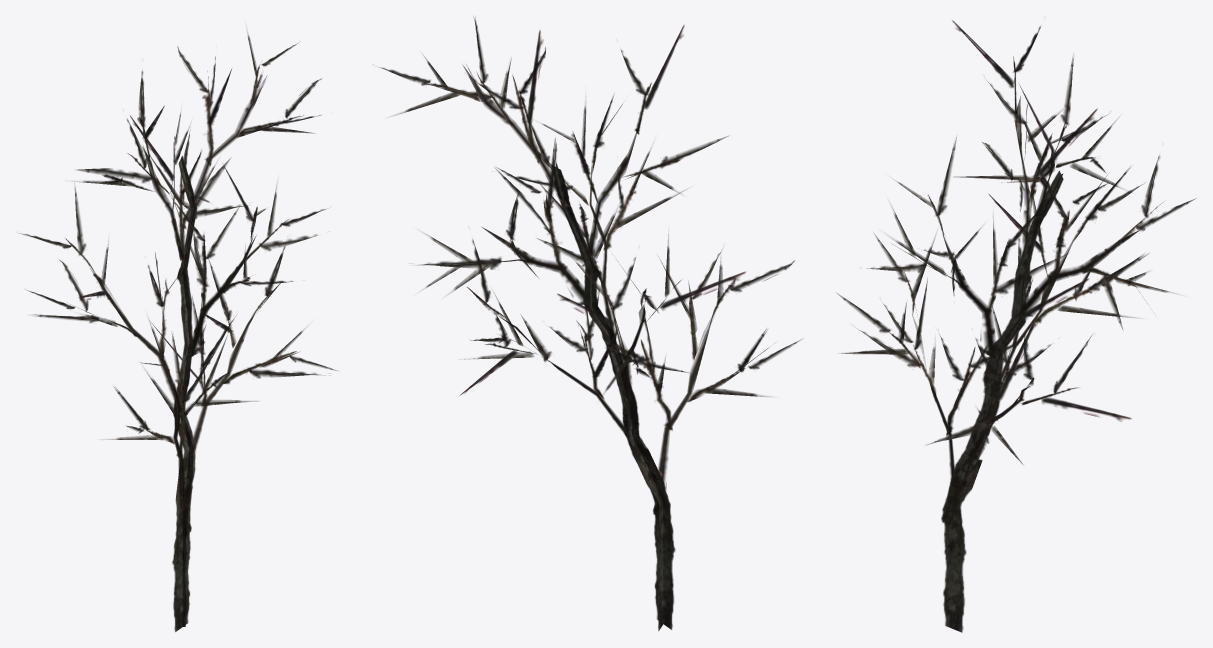
The model's file is veg-79.glb.
The picture shows the model from 3 angles, left to right: view 1: azimuth 30°, elevation 25°; view 2: azimuth 150°, elevation 25°; view 3: azimuth 270°, elevation 25°; orthographic projection. The views are drawn at different scales.
Parts seen in each view (by area): view 1: _rfzc_VarH_LOD3_79; view 2: _rfzc_VarH_LOD3_79; view 3: _rfzc_VarH_LOD3_79.
Part boxes in pixels (x1,y1,x2,y2): _rfzc_VarH_LOD3_79: [19, 32, 336, 631]; _rfzc_VarH_LOD3_79: [376, 16, 803, 631]; _rfzc_VarH_LOD3_79: [837, 20, 1196, 632].
Size of the model in its own units: 0.4077 by 0.7453 by 0.3969.
1 material, 1 textured.
